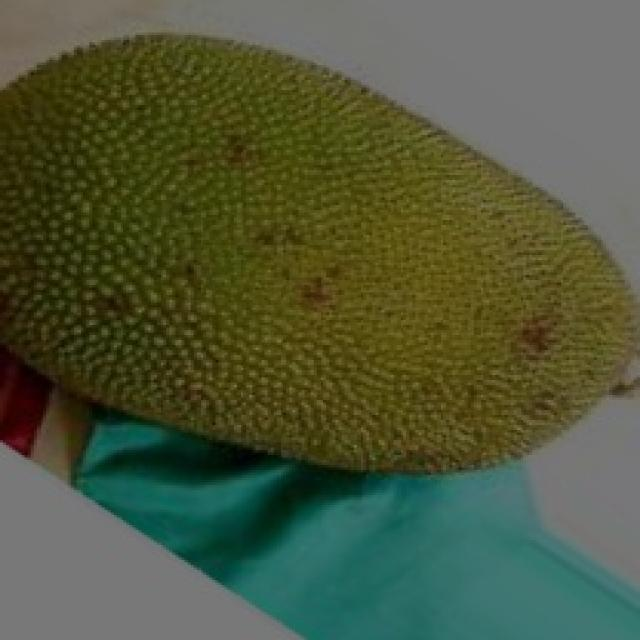Fruit: (267, 12, 640, 345)
